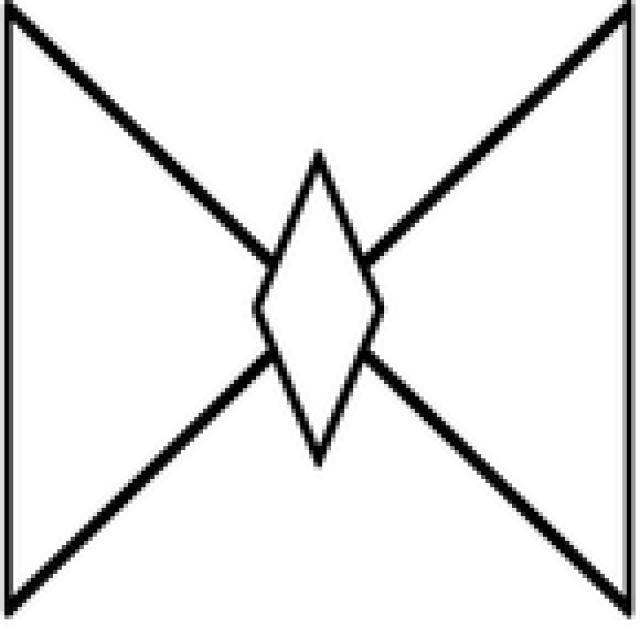Plug Valve: (0, 0, 635, 617)
